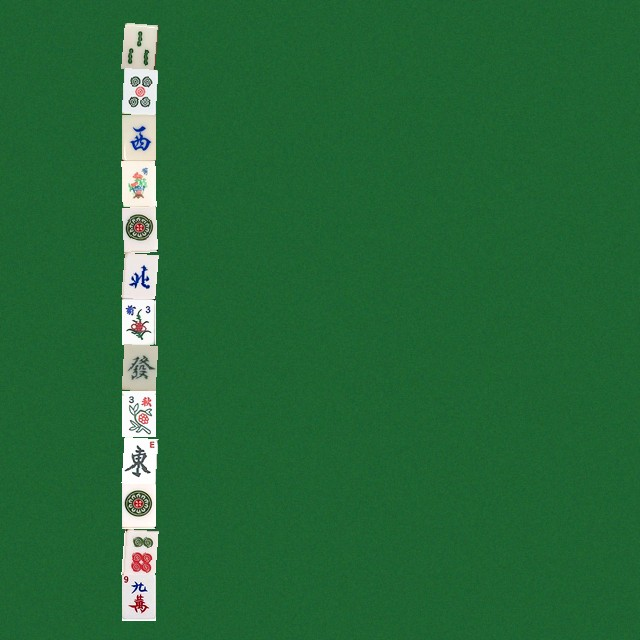tile: (121, 22, 155, 68), (121, 68, 155, 114), (121, 114, 155, 160), (121, 160, 155, 206), (121, 206, 155, 252), (121, 252, 155, 298), (121, 298, 155, 344), (121, 344, 155, 390), (121, 390, 155, 436), (121, 436, 155, 482), (121, 482, 155, 528), (121, 528, 155, 574), (121, 574, 155, 620)
